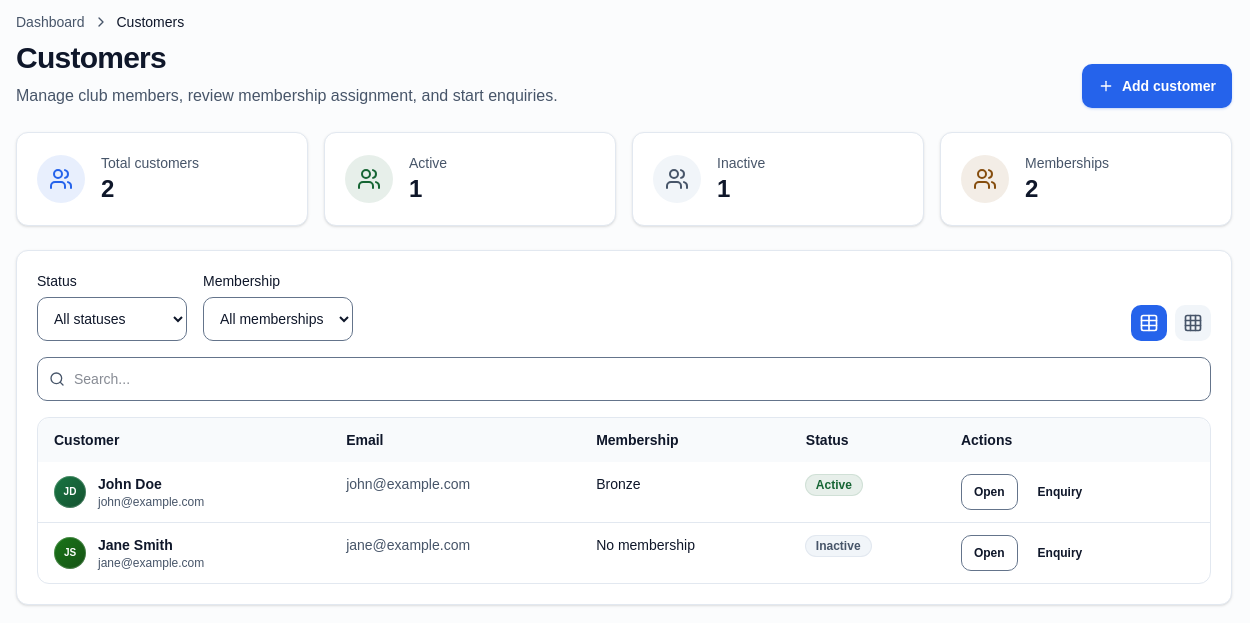
Test: CustomersList › switches to card view
Expected: the table is shown, [38, 418, 1210, 583]
Click the button named "Card view". click: (1193, 323)
box: [1175, 305, 1211, 341]
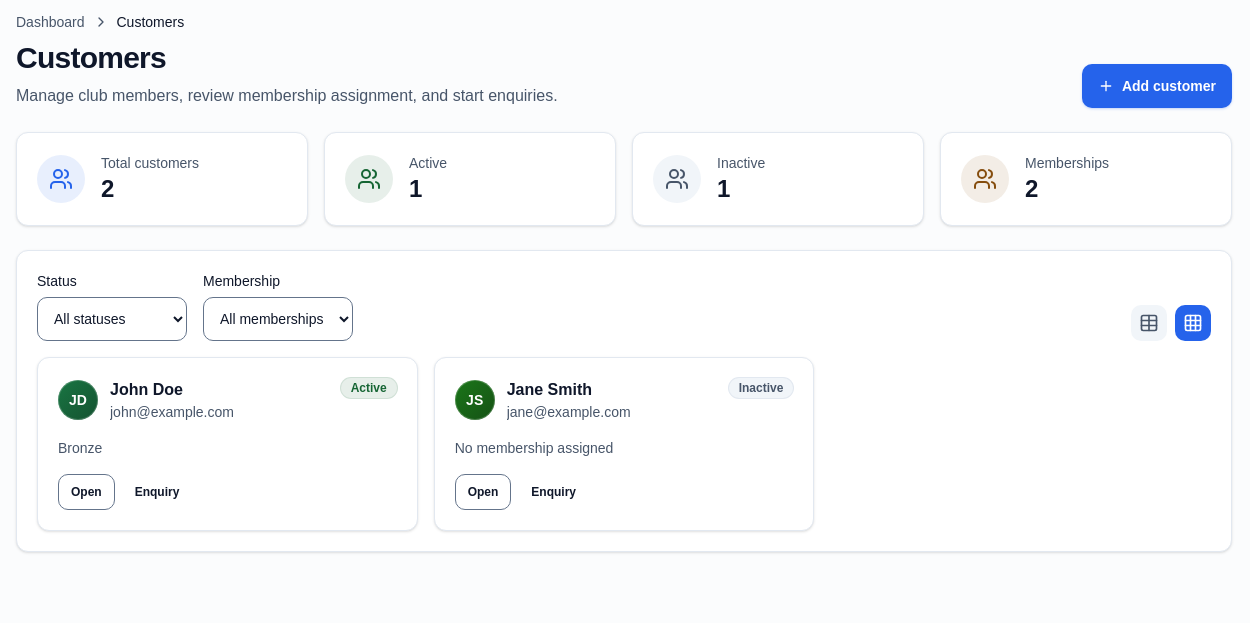
Expected: the heading "John Doe" is shown, [110, 381, 183, 398]
Expected: the table is gone
